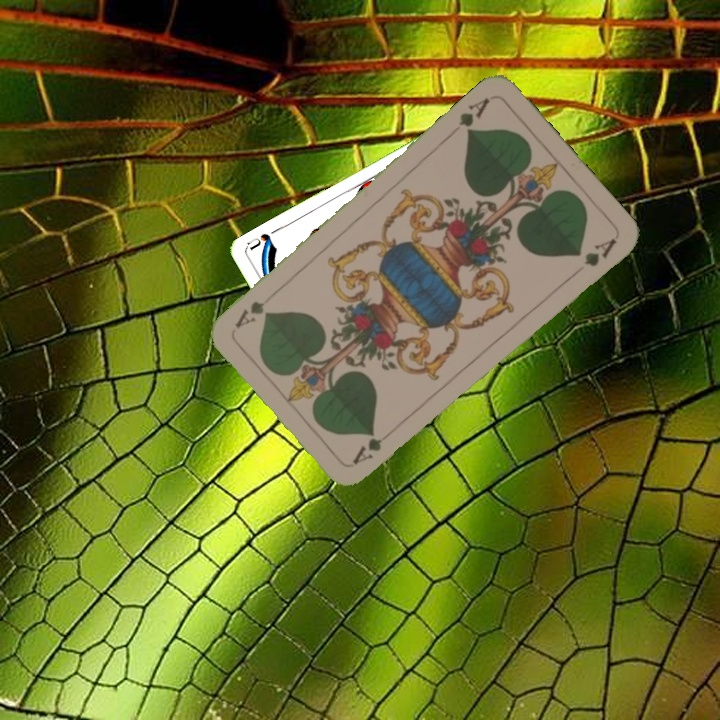GA: (348, 426, 398, 468), (454, 93, 493, 137)
